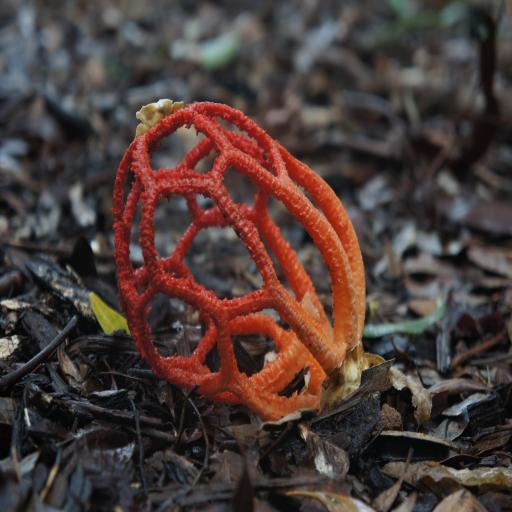mushroom: (109, 94, 379, 413)
